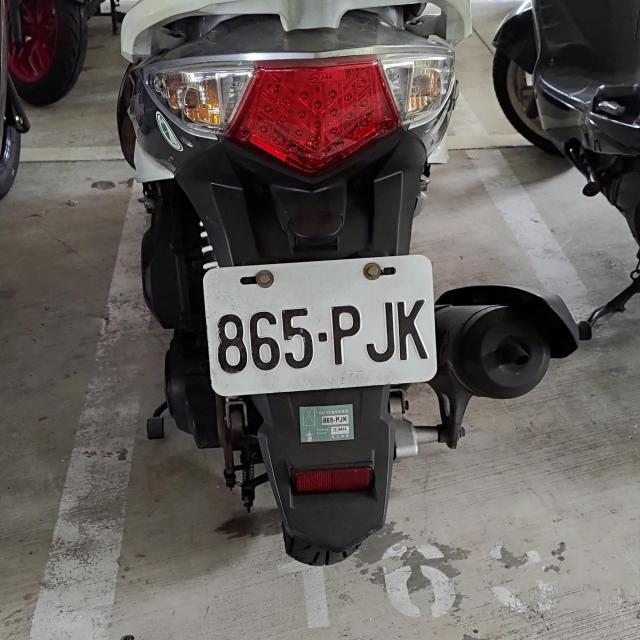W: (203, 256, 439, 394)
